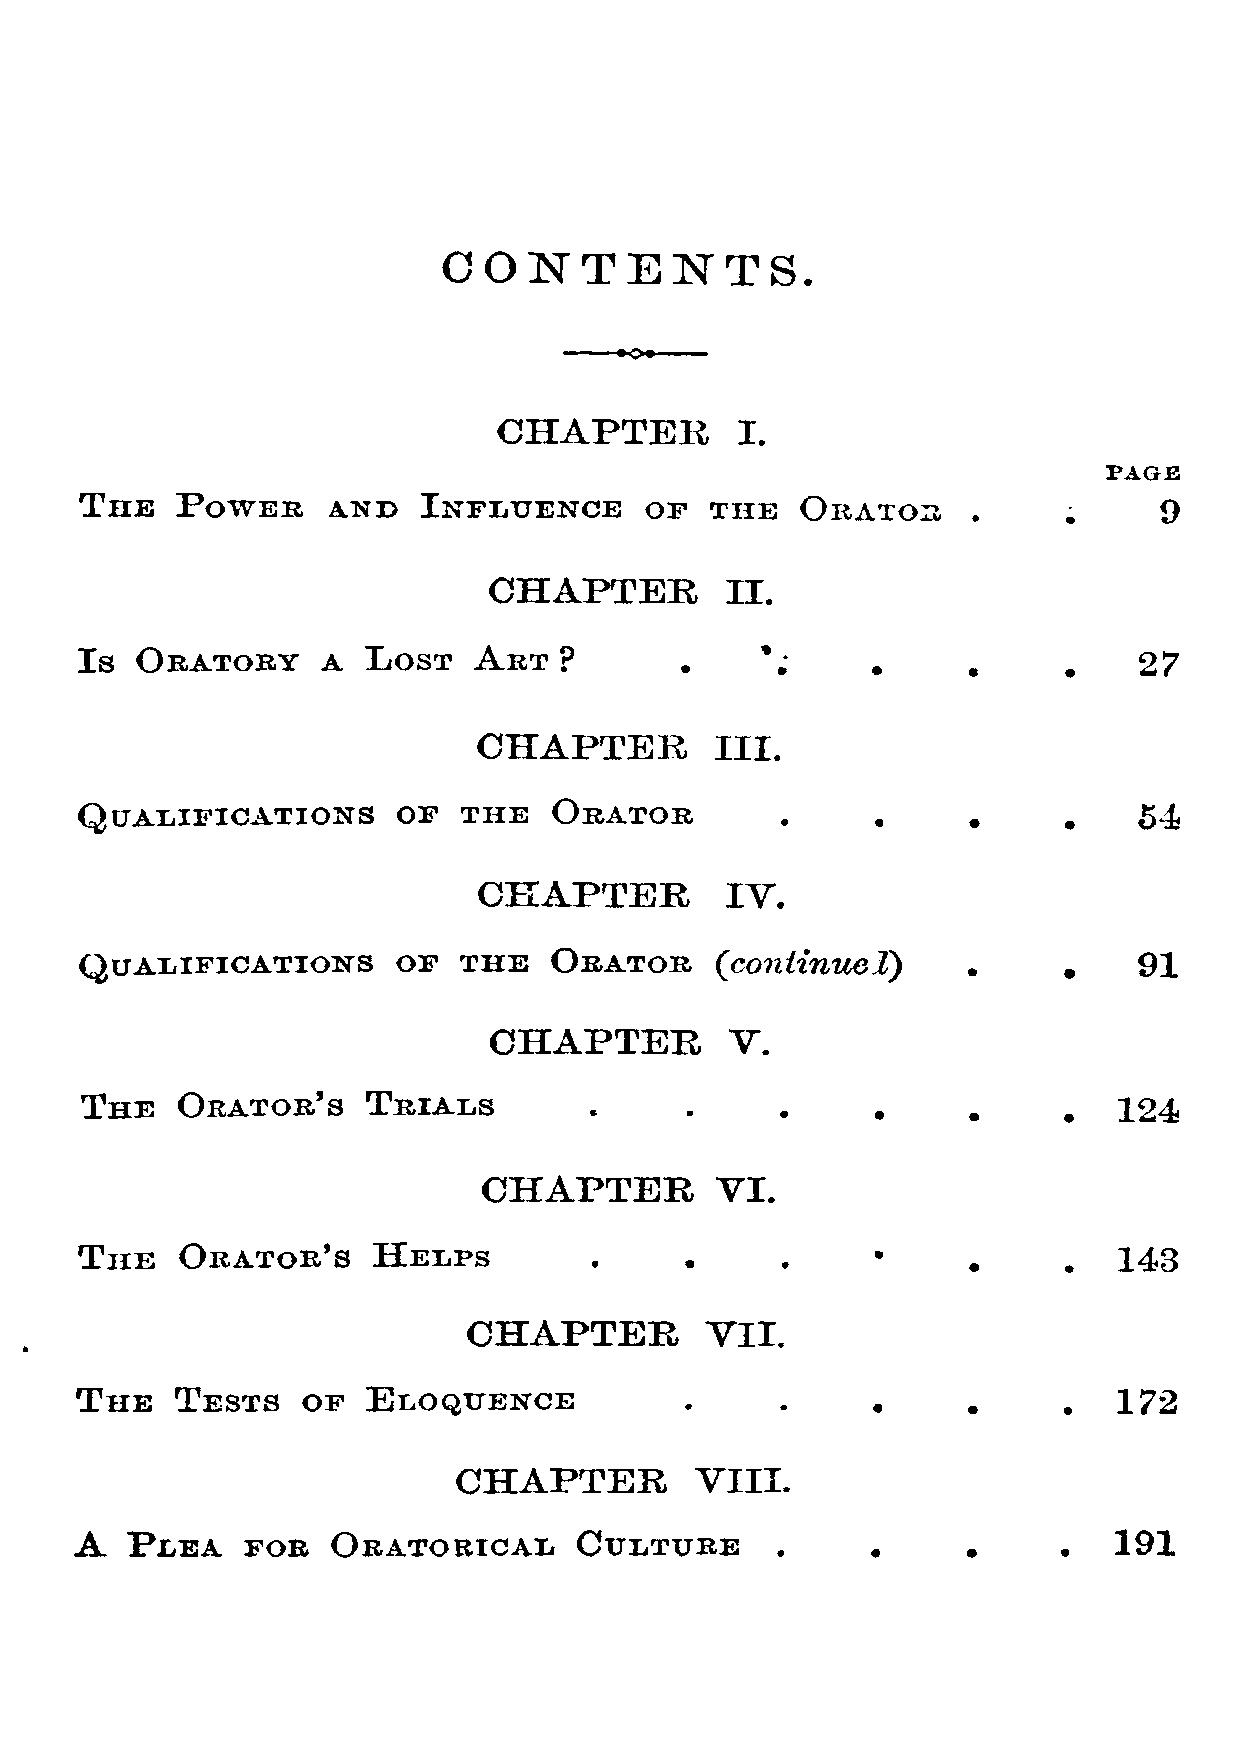TOC_chapter: (71, 484, 941, 527), (72, 943, 911, 986), (67, 1522, 745, 1563), (72, 794, 696, 836), (71, 1381, 578, 1423), (71, 639, 578, 678), (72, 1237, 495, 1274), (76, 1087, 498, 1121), (464, 1312, 789, 1351), (470, 874, 789, 913), (480, 1169, 776, 1210), (474, 723, 781, 762), (454, 1463, 790, 1498), (484, 570, 778, 608), (493, 412, 768, 451), (486, 1023, 769, 1057), (1135, 943, 1180, 986)
TOC_pagenumber: (1110, 1518, 1178, 1562), (1111, 1091, 1177, 1123), (1133, 790, 1182, 832), (1115, 1241, 1177, 1274), (1115, 1386, 1177, 1418), (1154, 488, 1189, 530), (1135, 648, 1180, 680)
chapter: (442, 246, 813, 287)
